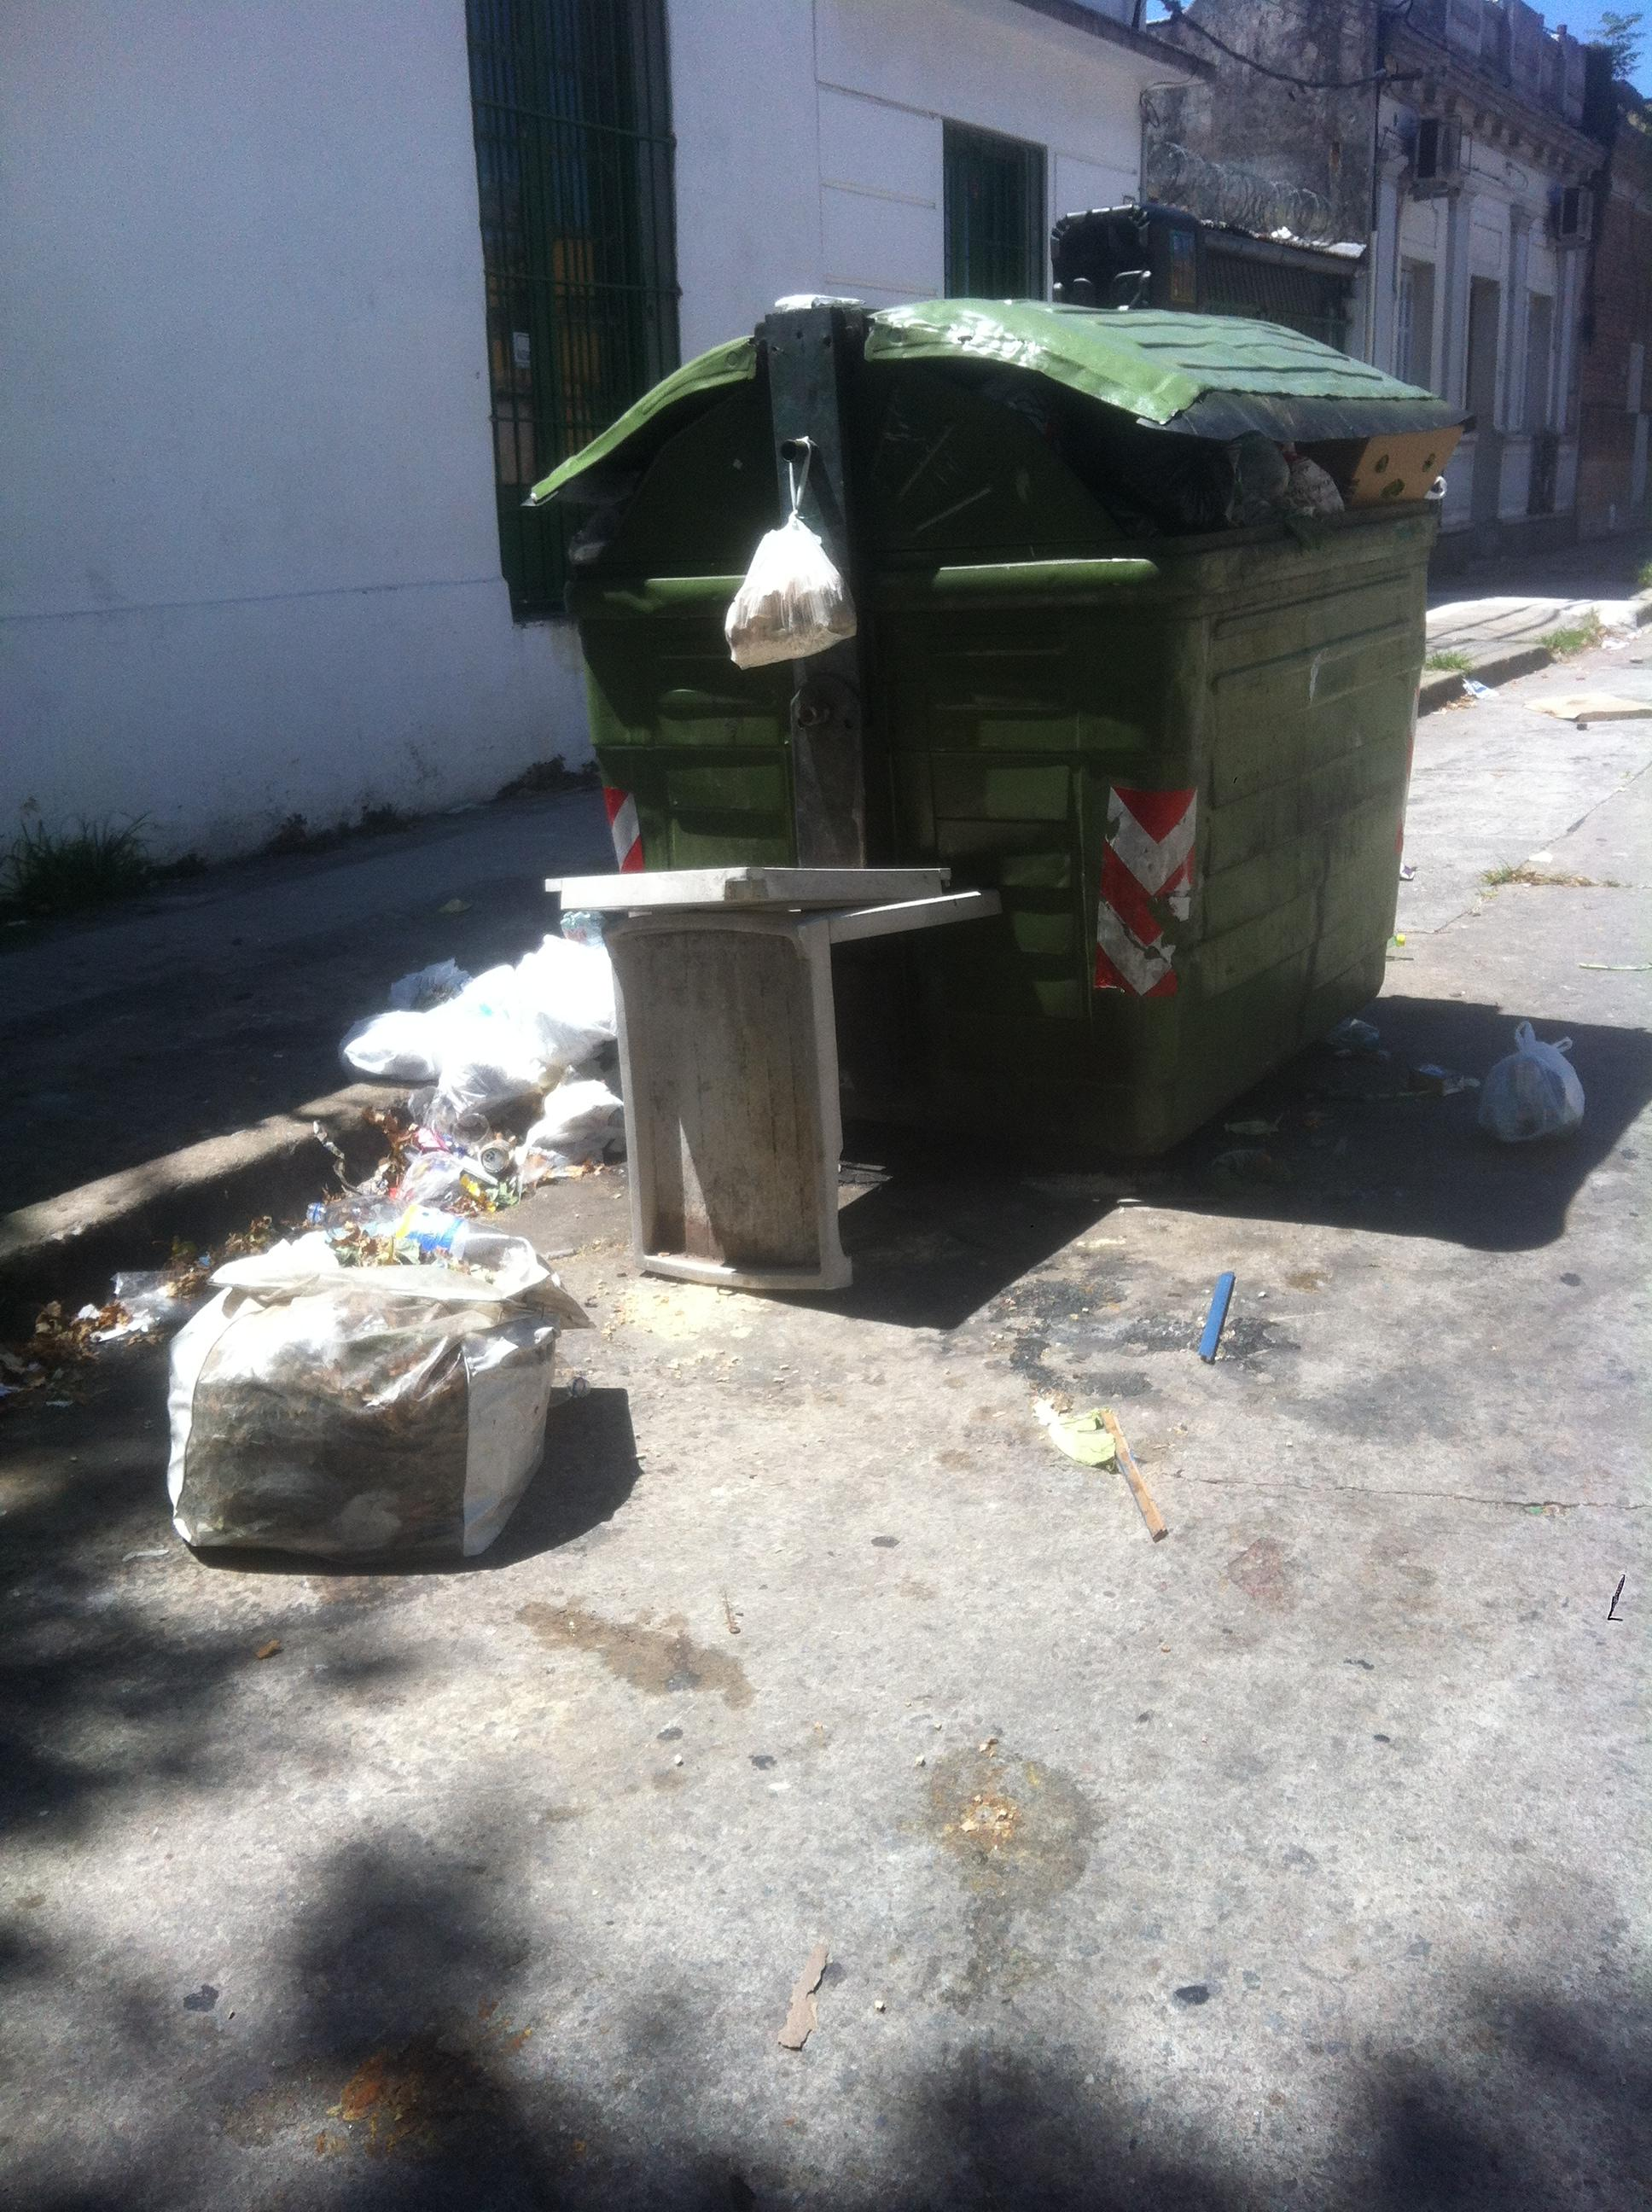Dechets: (548, 866, 1012, 1299), (158, 1247, 562, 1580), (324, 965, 626, 1150), (725, 522, 849, 668), (1477, 1020, 1593, 1168)
Trash: (503, 279, 1442, 1164)
